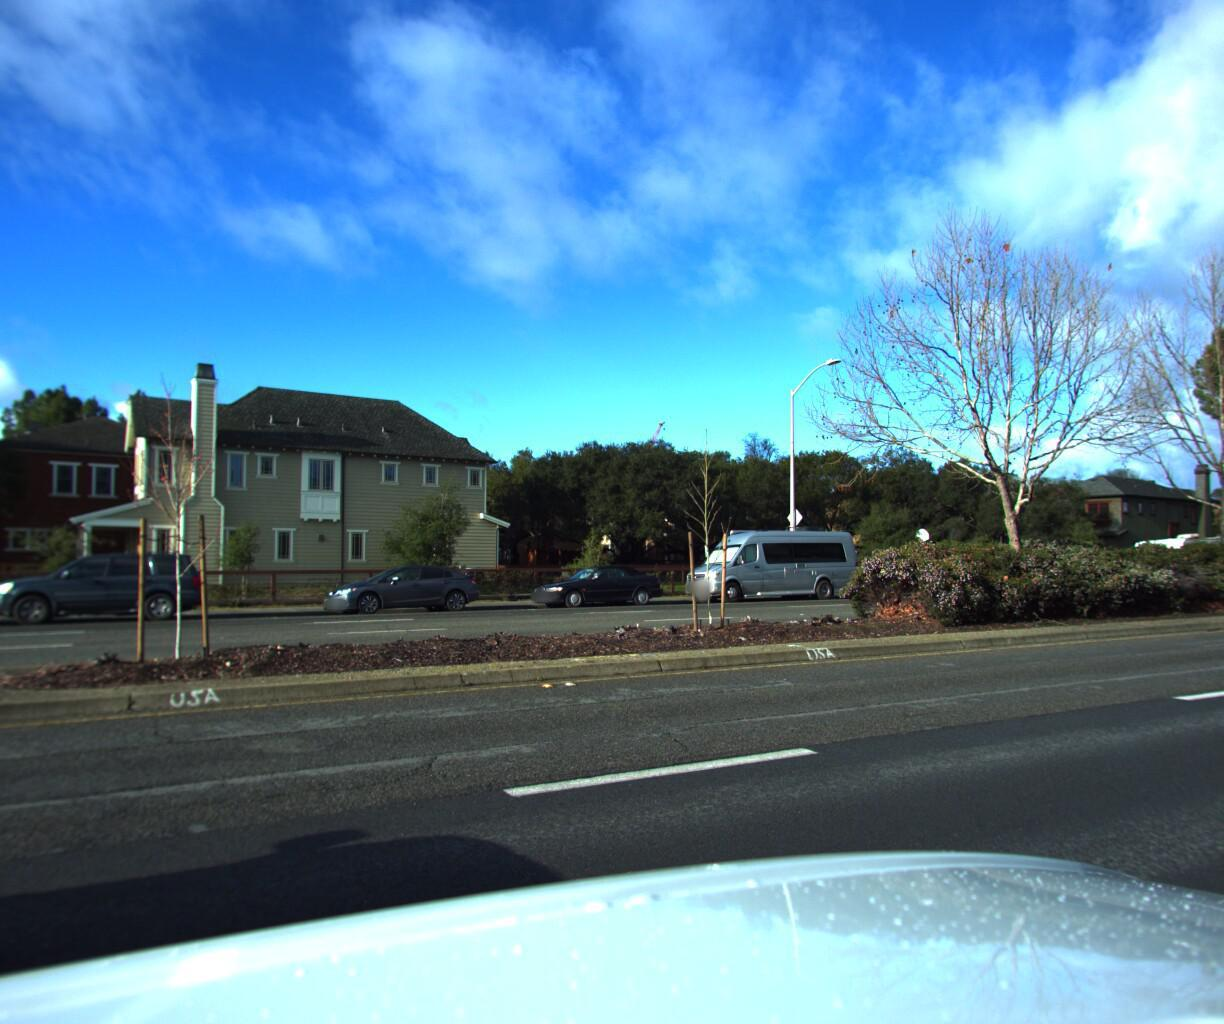car: (668, 516, 865, 602), (309, 562, 487, 616), (519, 559, 670, 606)
other_vehicle: (1113, 522, 1224, 582), (1204, 522, 1224, 578)
